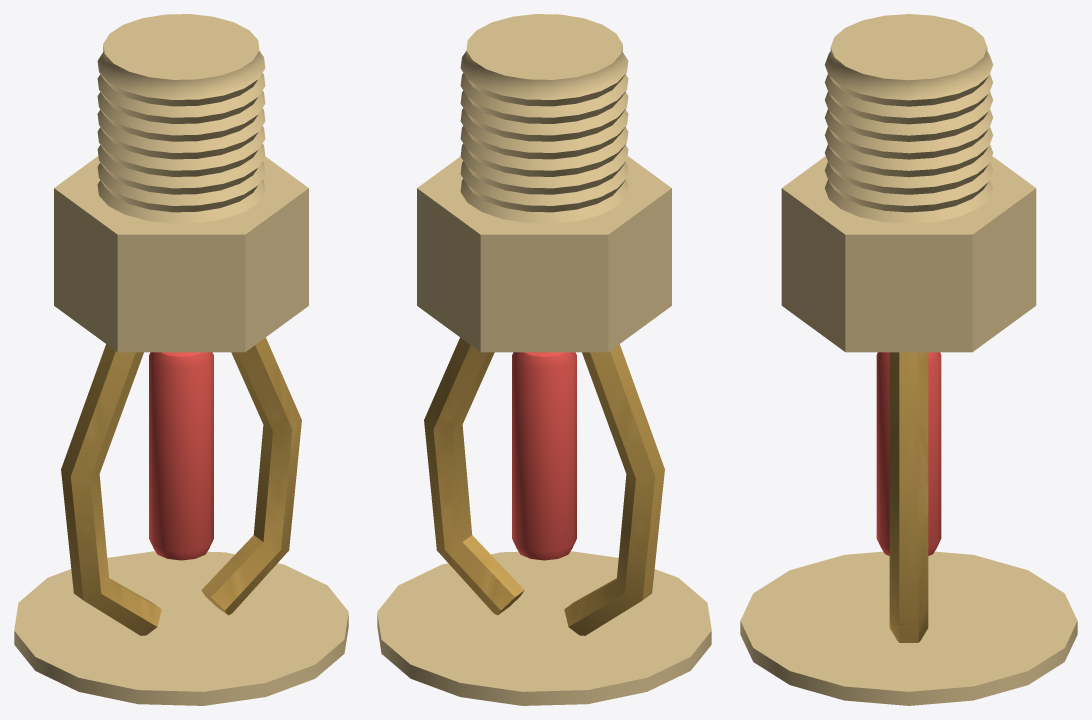
File: HID-INC-008.glb
3 renders of one model, left to right at view 1: azimuth 30°, elevation 25°; view 2: azimuth 150°, elevation 25°; view 3: azimuth 270°, elevation 25°, orthographic.
Parts seen in each view (by area): view 1: HID-INC-008_corpo, HID-INC-008_defletor, HID-INC-008_rosca, HID-INC-008_ampola, HID-INC-008_braco-1, HID-INC-008_braco1; view 2: HID-INC-008_corpo, HID-INC-008_defletor, HID-INC-008_rosca, HID-INC-008_ampola, HID-INC-008_braco-1, HID-INC-008_braco1; view 3: HID-INC-008_defletor, HID-INC-008_corpo, HID-INC-008_rosca, HID-INC-008_braco1, HID-INC-008_ampola.
Boxes of the visible parts, bbox=[...] form: HID-INC-008_corpo: bbox=[54, 156, 308, 352]; HID-INC-008_defletor: bbox=[14, 551, 348, 705]; HID-INC-008_rosca: bbox=[97, 14, 265, 223]; HID-INC-008_ampola: bbox=[149, 352, 213, 560]; HID-INC-008_braco-1: bbox=[61, 344, 161, 635]; HID-INC-008_braco1: bbox=[201, 337, 301, 615]; HID-INC-008_corpo: bbox=[417, 156, 671, 352]; HID-INC-008_defletor: bbox=[377, 551, 711, 705]; HID-INC-008_rosca: bbox=[460, 14, 628, 223]; HID-INC-008_ampola: bbox=[512, 352, 576, 560]; HID-INC-008_braco-1: bbox=[564, 344, 664, 635]; HID-INC-008_braco1: bbox=[424, 337, 524, 615]; HID-INC-008_defletor: bbox=[740, 551, 1077, 705]; HID-INC-008_corpo: bbox=[781, 156, 1036, 352]; HID-INC-008_rosca: bbox=[824, 14, 993, 223]; HID-INC-008_braco1: bbox=[889, 352, 928, 642]; HID-INC-008_ampola: bbox=[876, 352, 941, 555].
Size of the model in its own units: 0.026 by 0.05 by 0.026.
Materials: 3 (1 with a texture image).
